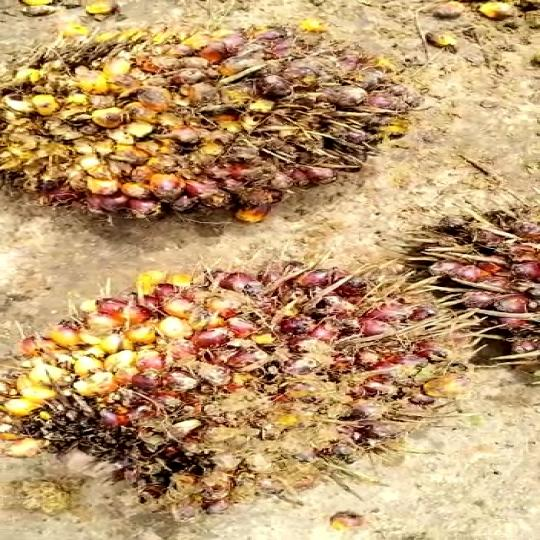masak: (0, 246, 460, 513), (0, 16, 417, 233)
